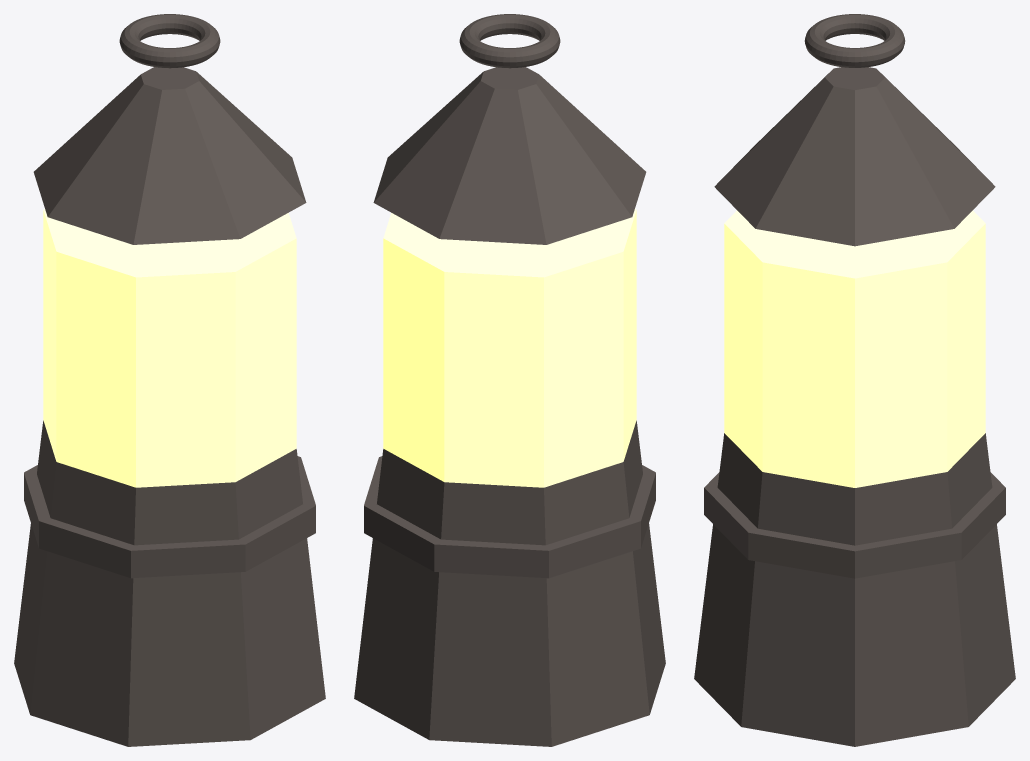
File: bazaar_lantern.glb
3 renders of one model, left to right at view 1: azimuth 30°, elevation 25°; view 2: azimuth 150°, elevation 25°; view 3: azimuth 270°, elevation 25°, orthographic.
Visible parts, largest first — view 1: Lantern_Body, Lantern_Glass, Lantern_Cap, Lantern_Base, Lantern_Hook; view 2: Lantern_Body, Lantern_Glass, Lantern_Cap, Lantern_Base, Lantern_Hook; view 3: Lantern_Body, Lantern_Glass, Lantern_Cap, Lantern_Base, Lantern_Hook.
Boxes of the visible parts, box(x1,y1,x2,y2) form: Lantern_Body: box(14, 420, 325, 746); Lantern_Glass: box(43, 209, 296, 487); Lantern_Cap: box(33, 67, 306, 244); Lantern_Base: box(24, 456, 315, 578); Lantern_Hook: box(119, 14, 220, 68); Lantern_Body: box(354, 420, 665, 746); Lantern_Glass: box(383, 209, 636, 487); Lantern_Cap: box(373, 67, 646, 244); Lantern_Base: box(364, 456, 655, 578); Lantern_Hook: box(459, 14, 560, 68); Lantern_Body: box(694, 433, 1015, 746); Lantern_Glass: box(724, 210, 985, 487); Lantern_Cap: box(714, 67, 995, 246); Lantern_Base: box(704, 472, 1005, 578); Lantern_Hook: box(804, 14, 905, 67).
Bounding box in the file's own units: 0.16 × 0.355 × 0.16.
